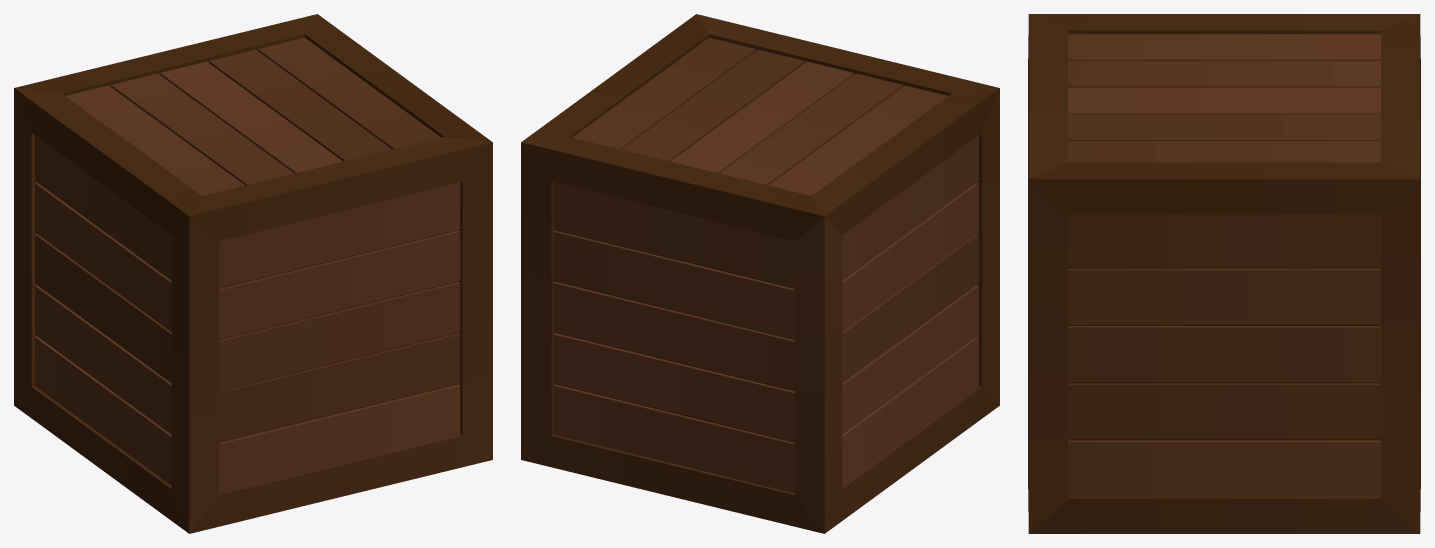
Rendered from Wooden Box.fbx.
3 renders of one model, left to right at view 1: azimuth 30°, elevation 25°; view 2: azimuth 150°, elevation 25°; view 3: azimuth 270°, elevation 25°, orthographic. The views are drawn at different scales.
Parts seen in each view (by area): view 1: Box; view 2: Box; view 3: Box.
Part boxes in pixels (x1,y1,x2,y2): Box: [14, 14, 492, 533]; Box: [521, 14, 999, 533]; Box: [1028, 14, 1420, 533].
Size of the model in its own units: 93.4 by 93.4 by 93.76.
